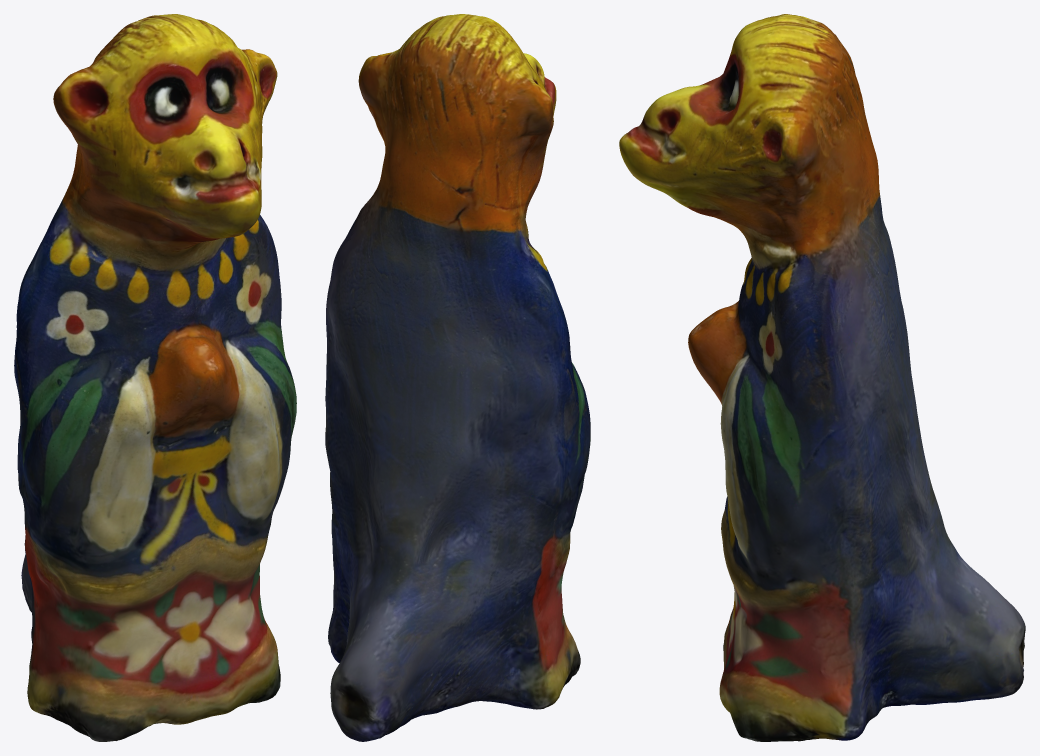
3 views of the same model, side by side, from view 1: azimuth 30°, elevation 25°; view 2: azimuth 150°, elevation 25°; view 3: azimuth 270°, elevation 25° (orthographic). The views are drawn at different scales.
Size of the model in its own units: 0.1535 by 0.3898 by 0.2108.
1 material, 1 textured.
